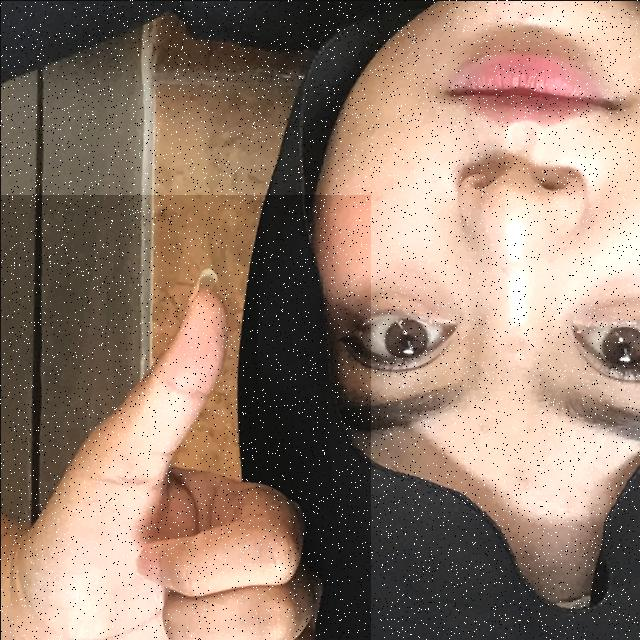sedih: (0, 194, 370, 640)
